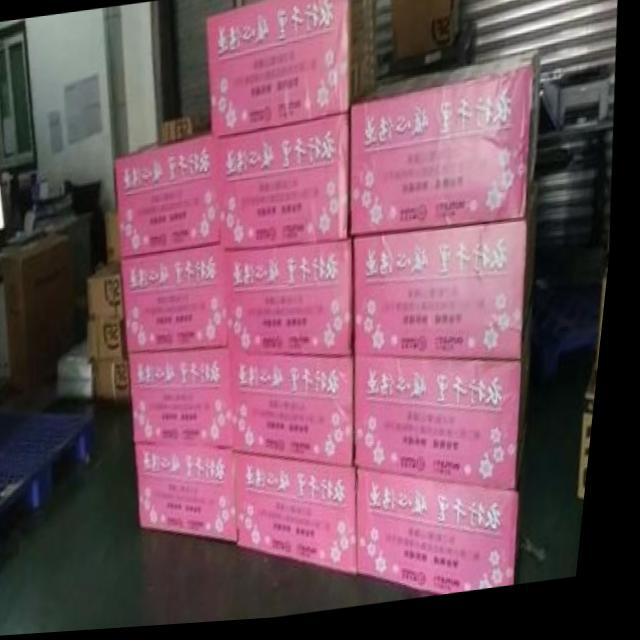box: (354, 57, 544, 238), (359, 193, 542, 368), (364, 314, 537, 496), (206, 0, 378, 140), (368, 474, 530, 601), (224, 116, 352, 252), (229, 245, 359, 361), (245, 457, 368, 578), (237, 353, 363, 470), (118, 137, 224, 258), (127, 248, 234, 354), (8, 232, 81, 387), (136, 353, 241, 449), (145, 448, 248, 544), (391, 0, 462, 64), (93, 264, 128, 321), (94, 321, 135, 364), (589, 402, 604, 508), (102, 363, 138, 398), (605, 288, 614, 396), (109, 208, 125, 264), (164, 116, 194, 145)
